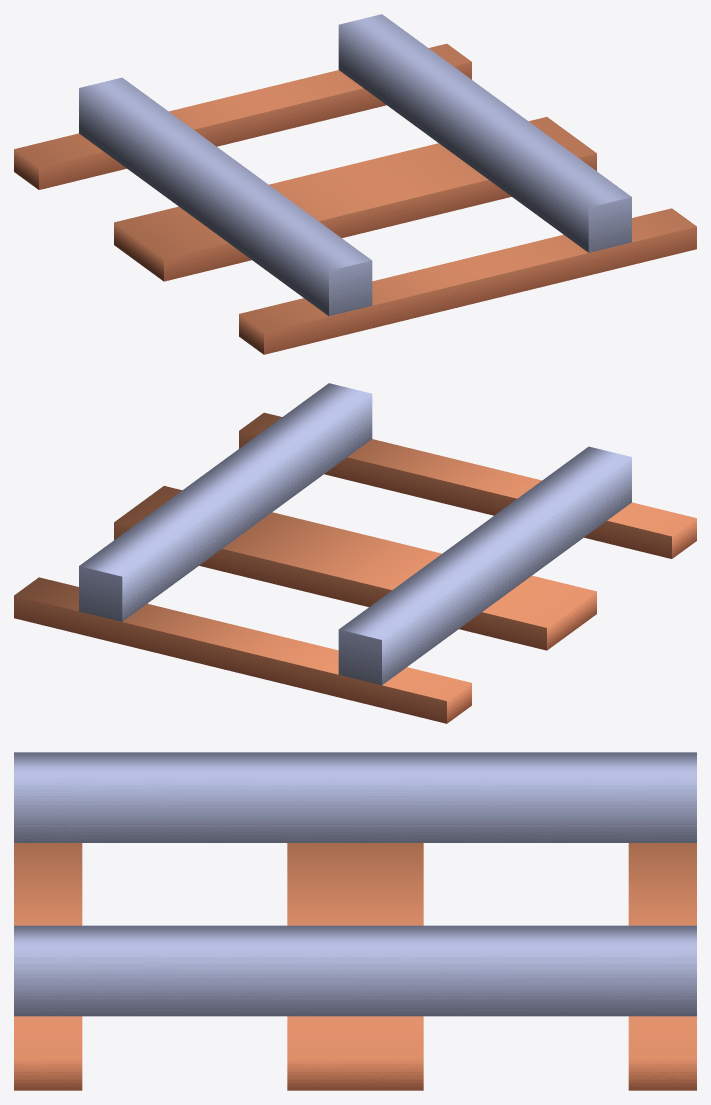
File: track.glb
3 renders of one model, top to bottom at view 1: azimuth 30°, elevation 25°; view 2: azimuth 150°, elevation 25°; view 3: azimuth 270°, elevation 25°, orthographic. The views are drawn at different scales.
Visible parts, largest first — view 1: track; view 2: track; view 3: track.
Boxes of the visible parts, <box> form: track: <box>14,14,696,354</box>; track: <box>14,383,696,723</box>; track: <box>14,752,696,1090</box>.
Bounding box in the file's own units: 1 × 0.15 × 1.
Materials: 1 (1 with a texture image).
